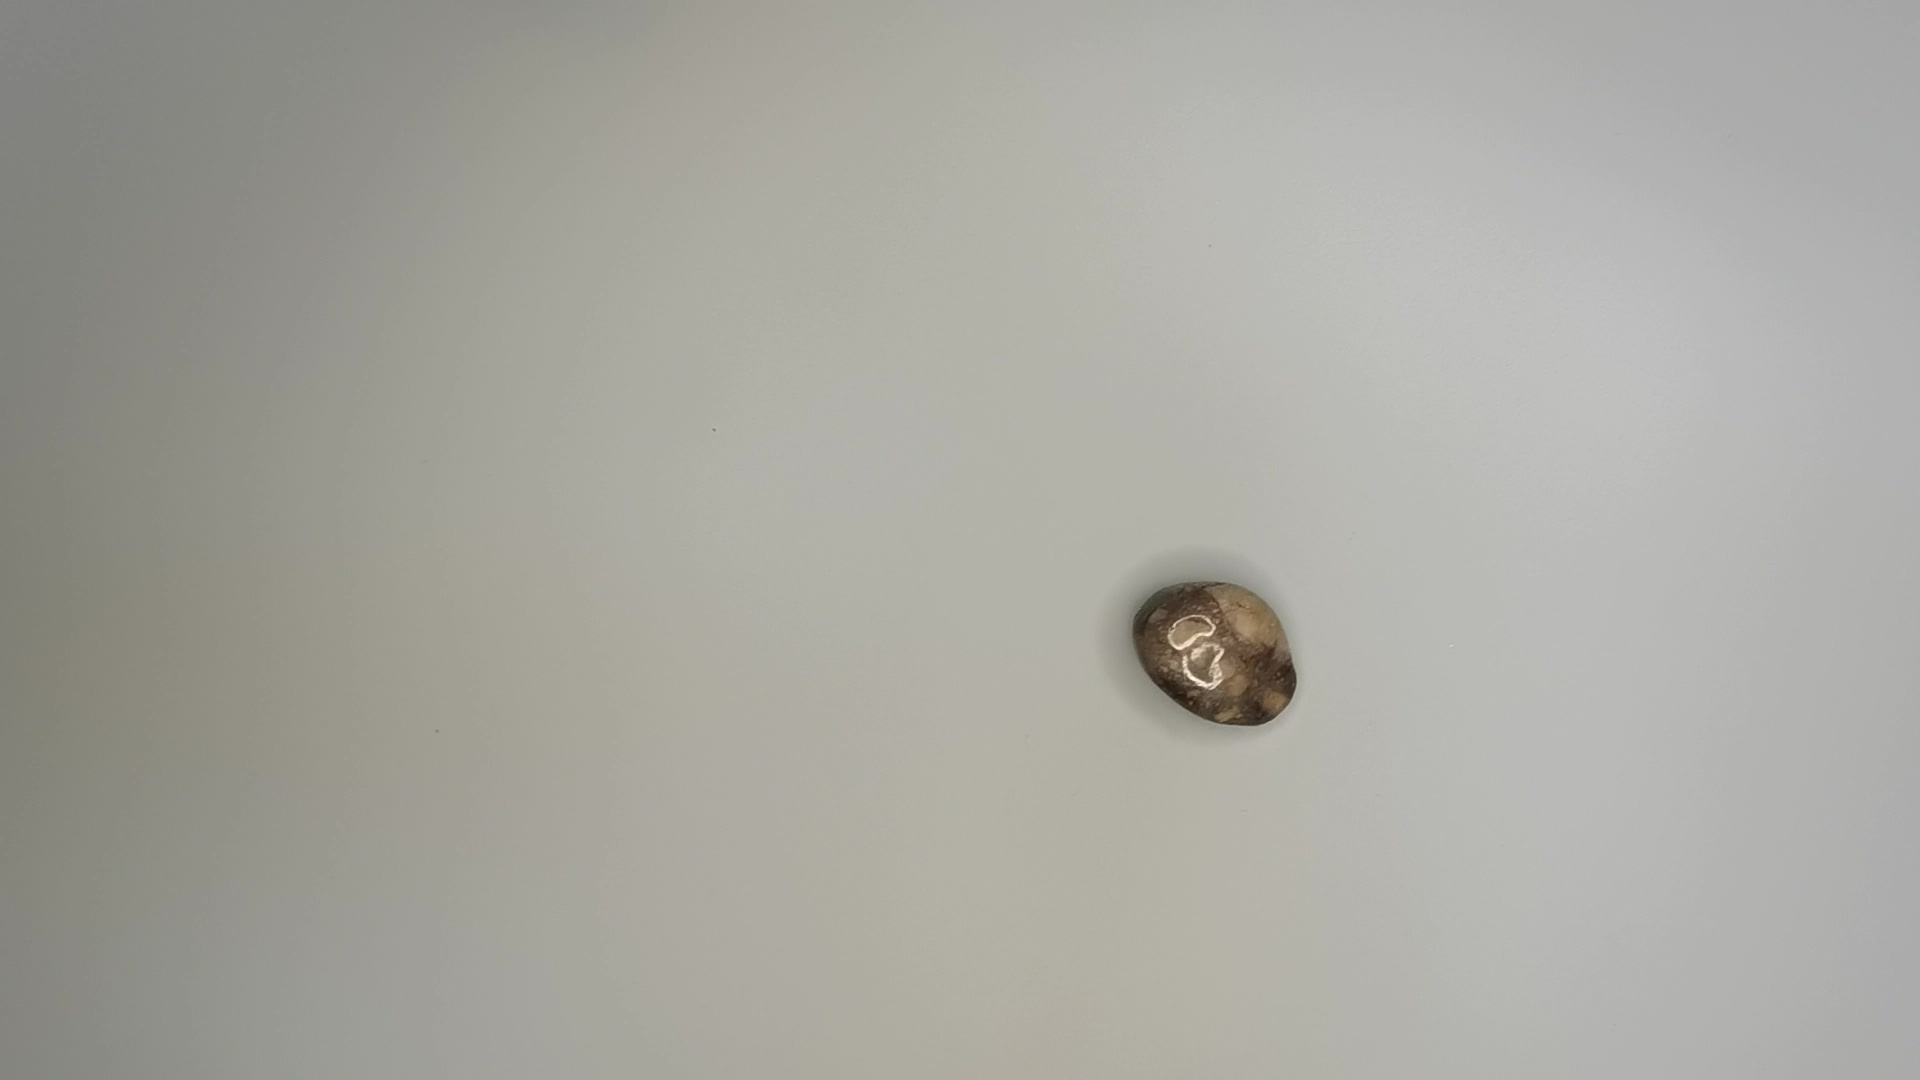ceramic: (1127, 574, 1309, 735)
